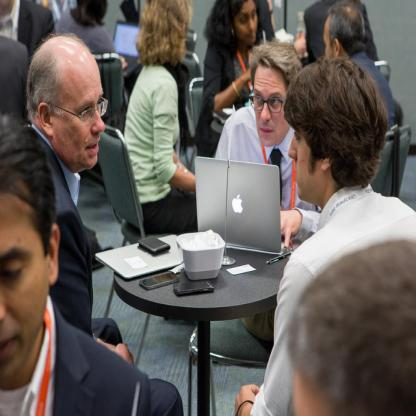board: (195, 156, 298, 255), (113, 21, 142, 79)
